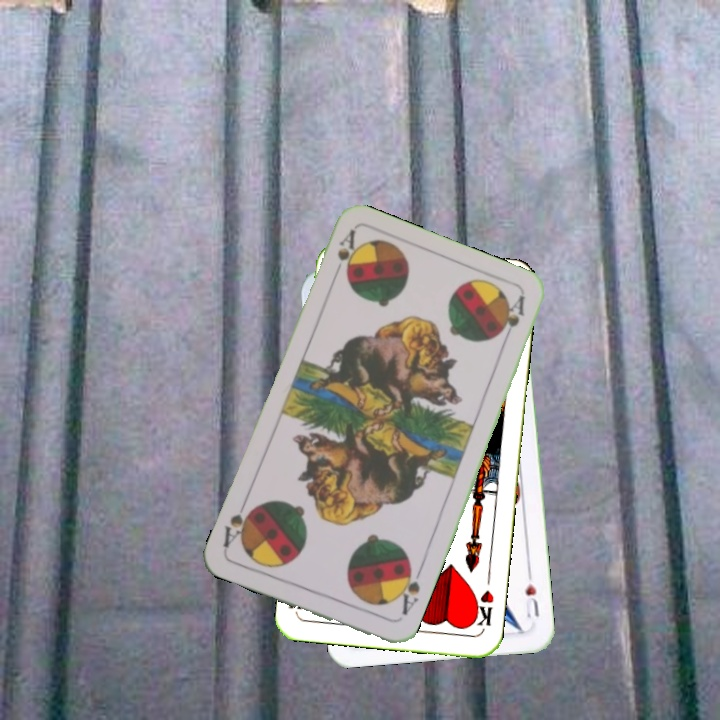HK: (468, 586, 497, 633)
HU: (521, 567, 542, 621)
SA: (328, 226, 361, 283), (392, 562, 424, 618)
